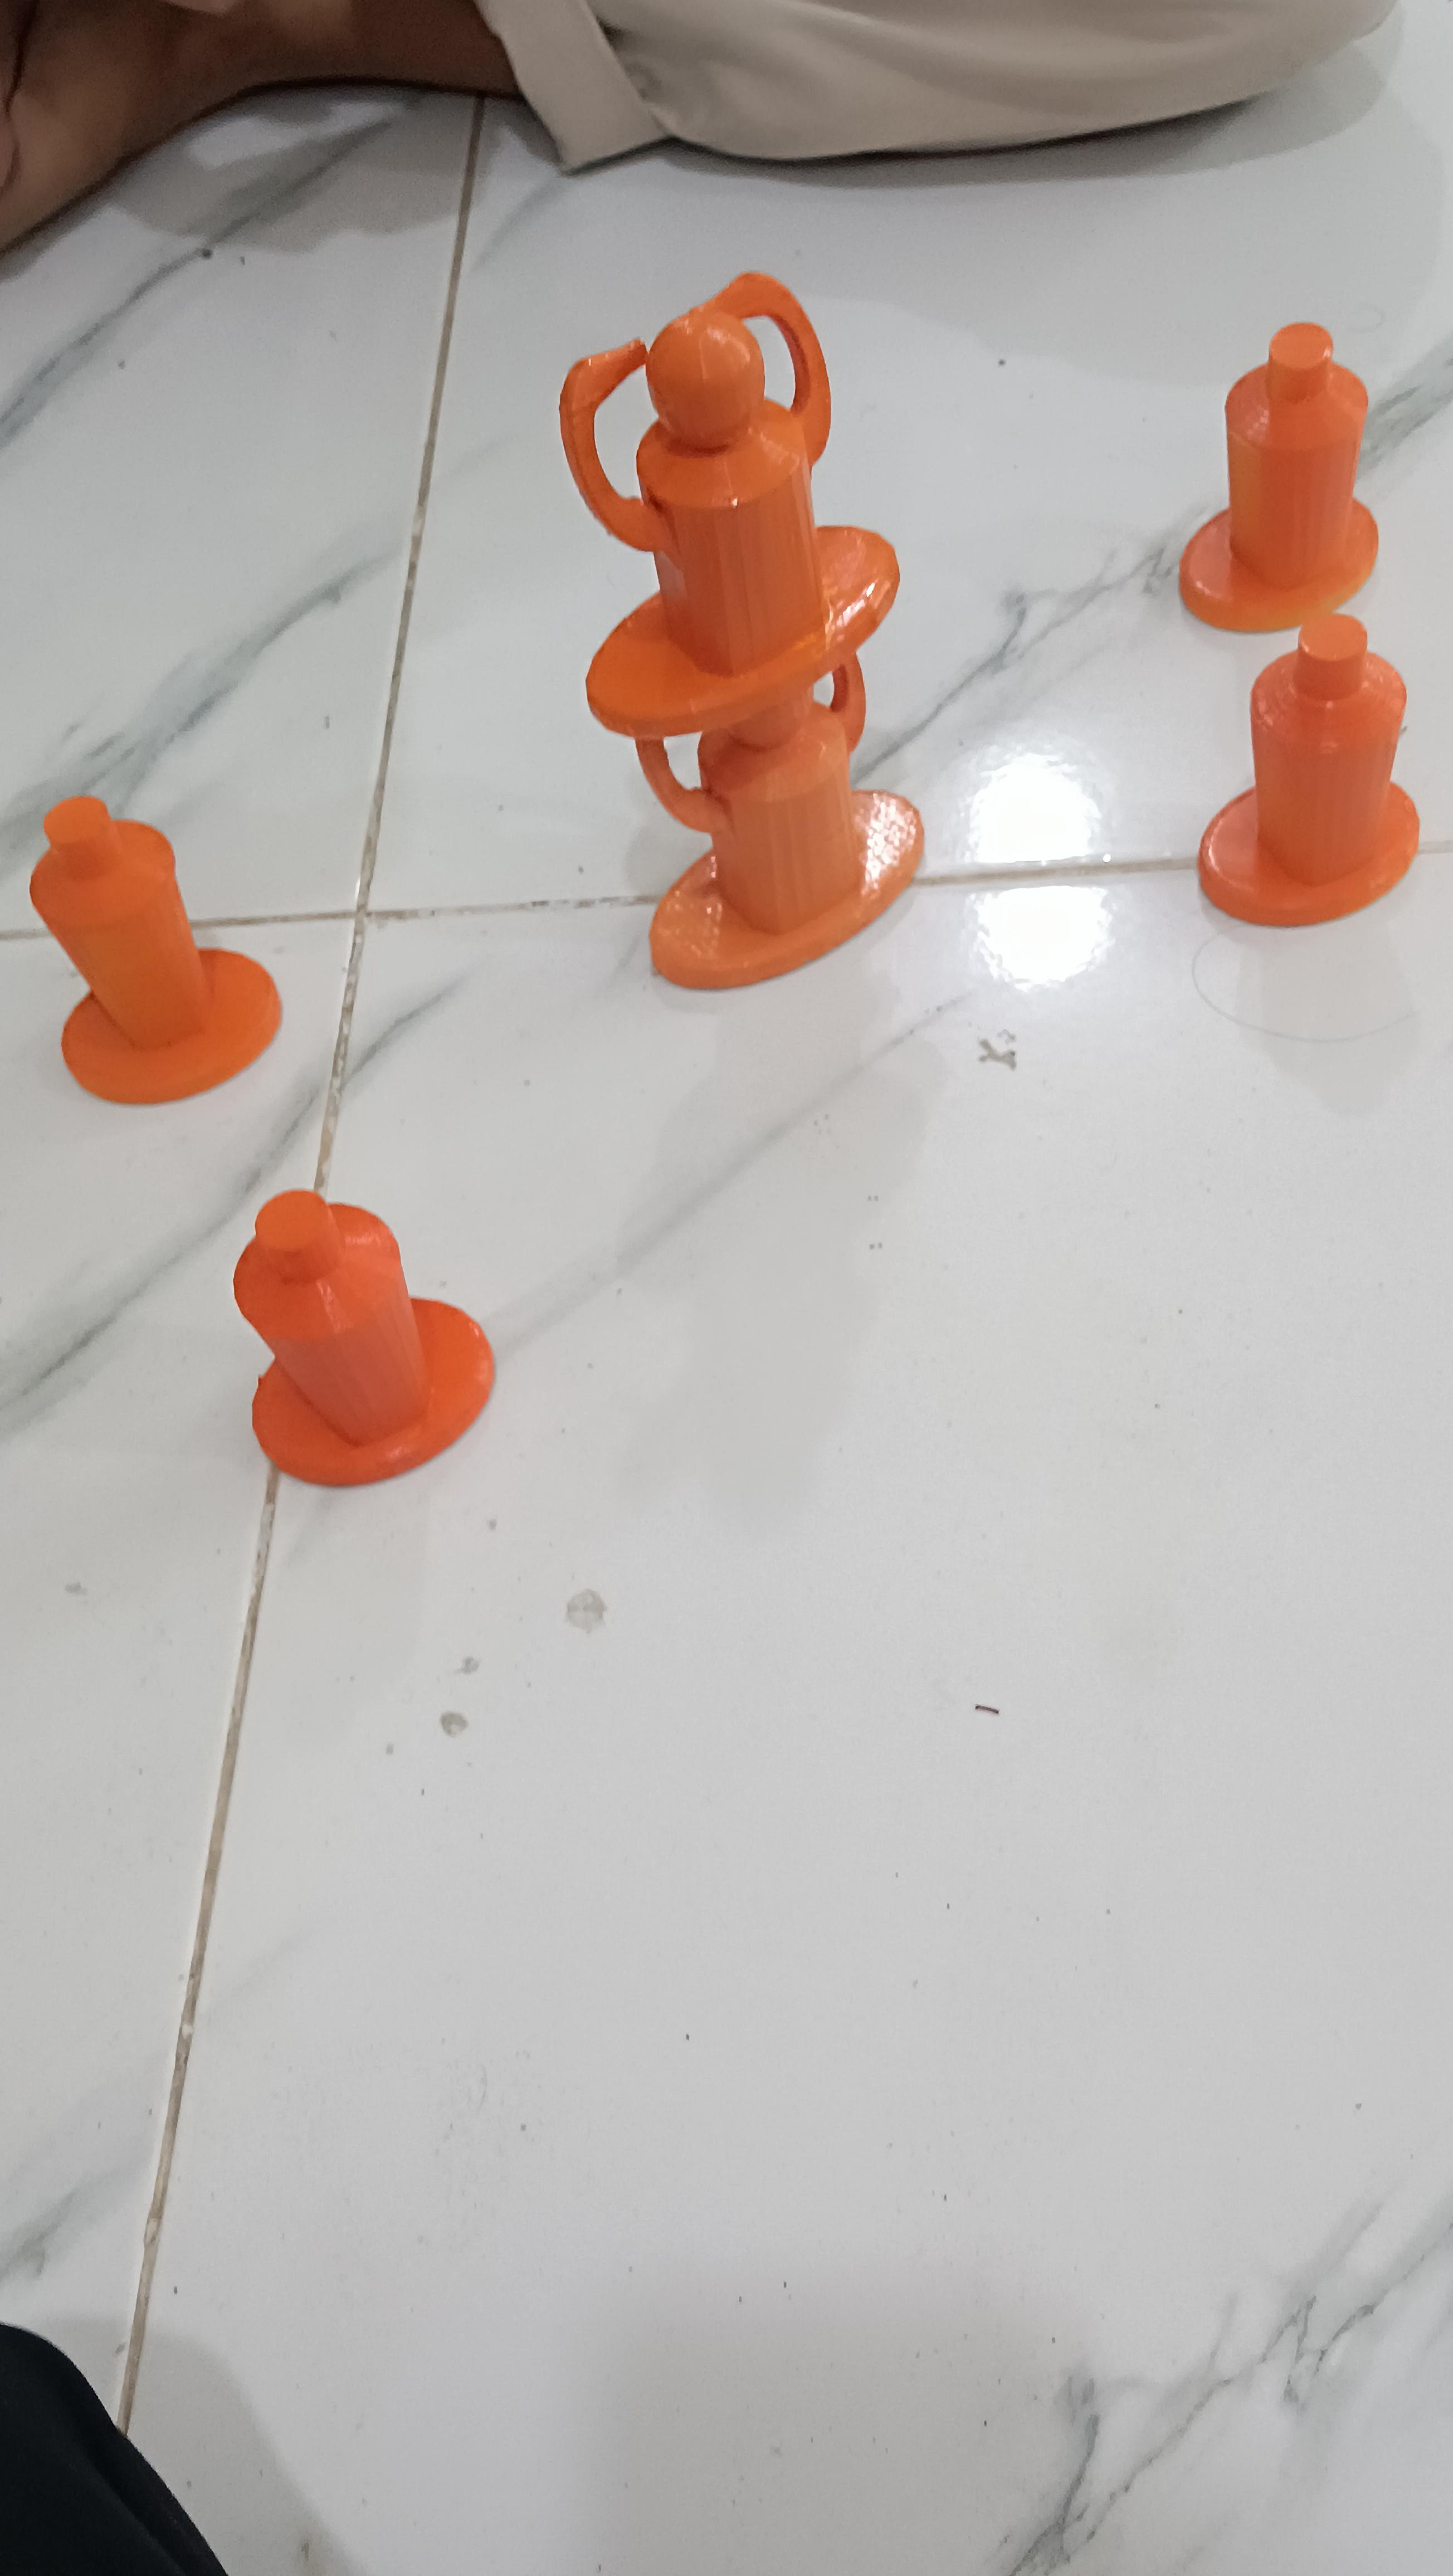dummy: (214, 1170, 532, 1538), (0, 786, 292, 1124), (1198, 616, 1435, 953), (1159, 290, 1400, 616)
real_person: (507, 273, 915, 677), (610, 684, 939, 1011)
